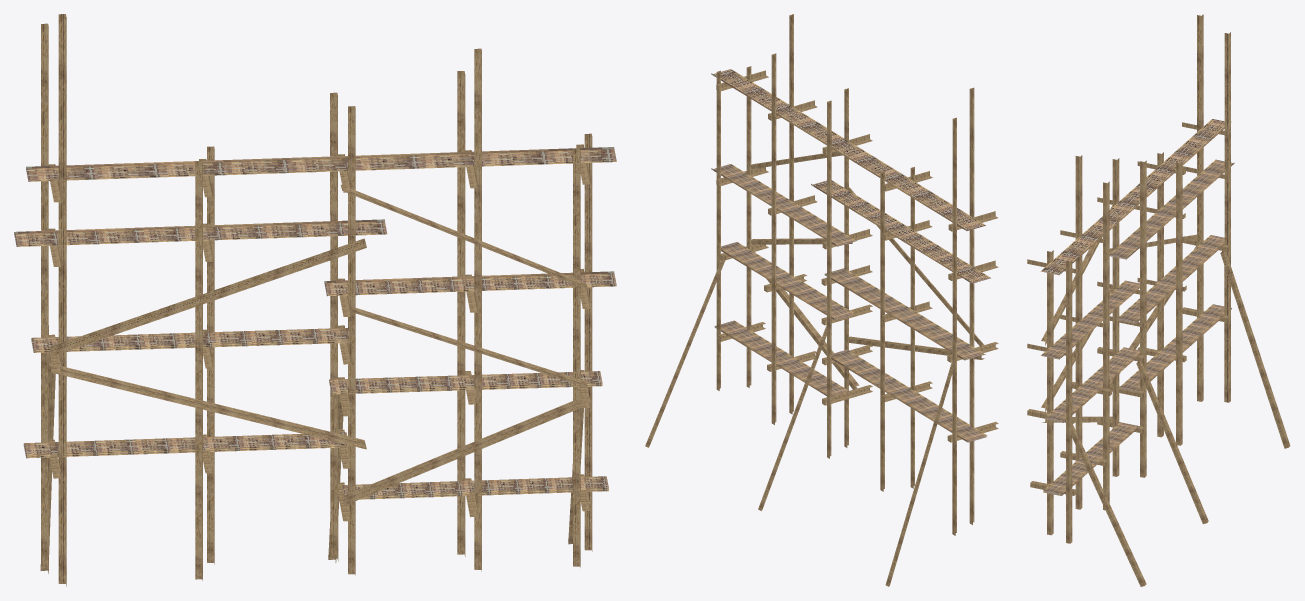
The model's file is stage-maya-p5-2.glb.
3 views of the same model, side by side, from view 1: azimuth 30°, elevation 25°; view 2: azimuth 150°, elevation 25°; view 3: azimuth 270°, elevation 25° (orthographic). The views are drawn at different scales.
Size of the model in its own units: 44.93 by 52.37 by 29.82.
2 materials, 2 textured.
